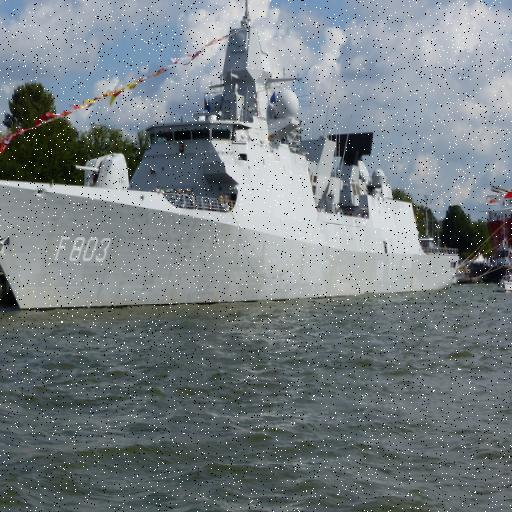Fragata: (1, 1, 463, 320)
